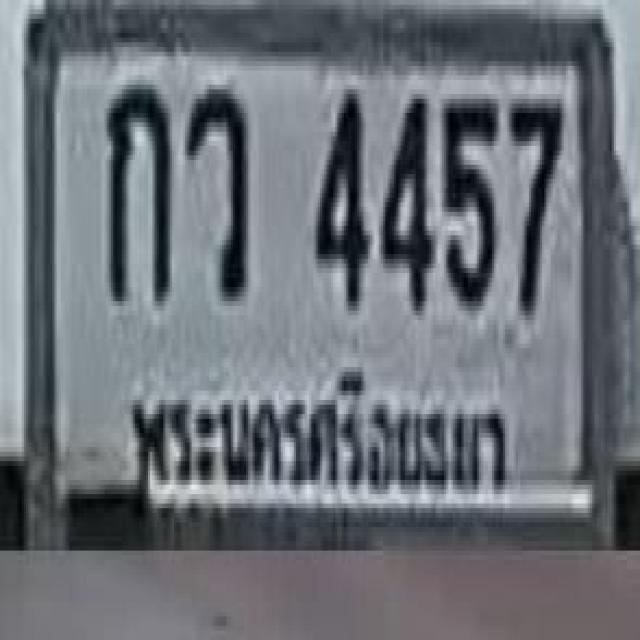license_plate: (25, 0, 615, 553)
